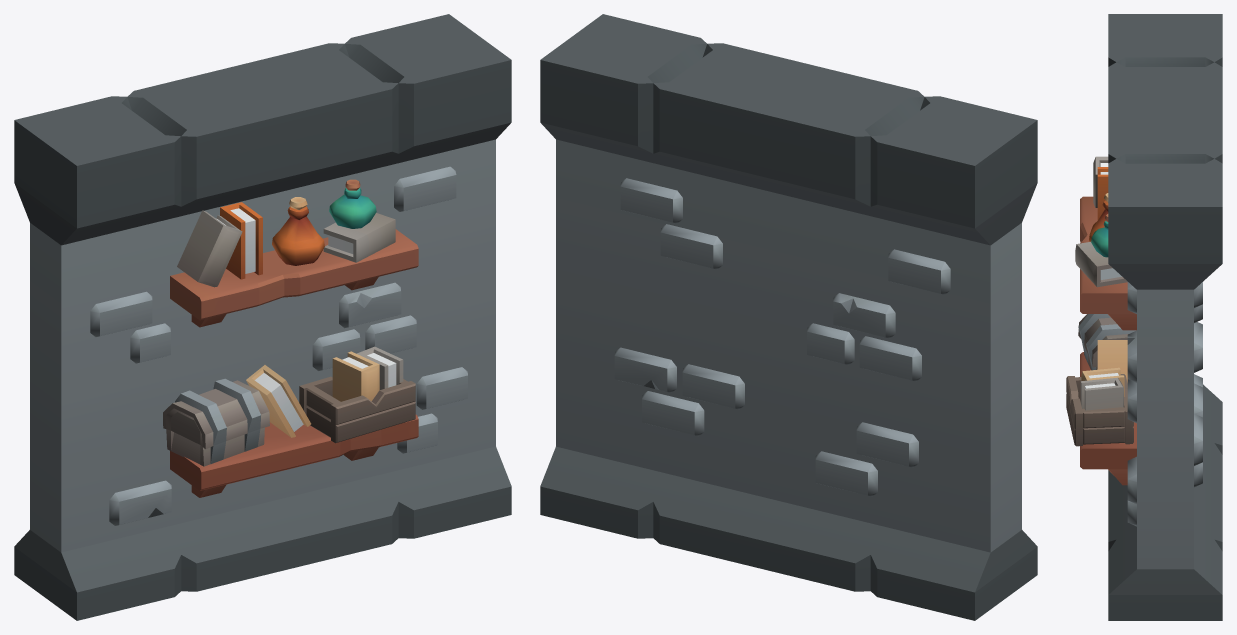
Rendered from wall_shelves.glb.
3 views of the same model, side by side, from view 1: azimuth 30°, elevation 25°; view 2: azimuth 150°, elevation 25°; view 3: azimuth 270°, elevation 25° (orthographic). The views are drawn at different scales.
Visible parts, largest first — view 1: wall_shelves; view 2: wall_shelves; view 3: wall_shelves.
Boxes of the visible parts, x1,y1,x2,y2 form: wall_shelves: [14, 14, 511, 620]; wall_shelves: [540, 14, 1037, 620]; wall_shelves: [1066, 14, 1222, 620].
Bounding box in the file's own units: 4 × 4 × 1.37.
1 material, 1 textured.
